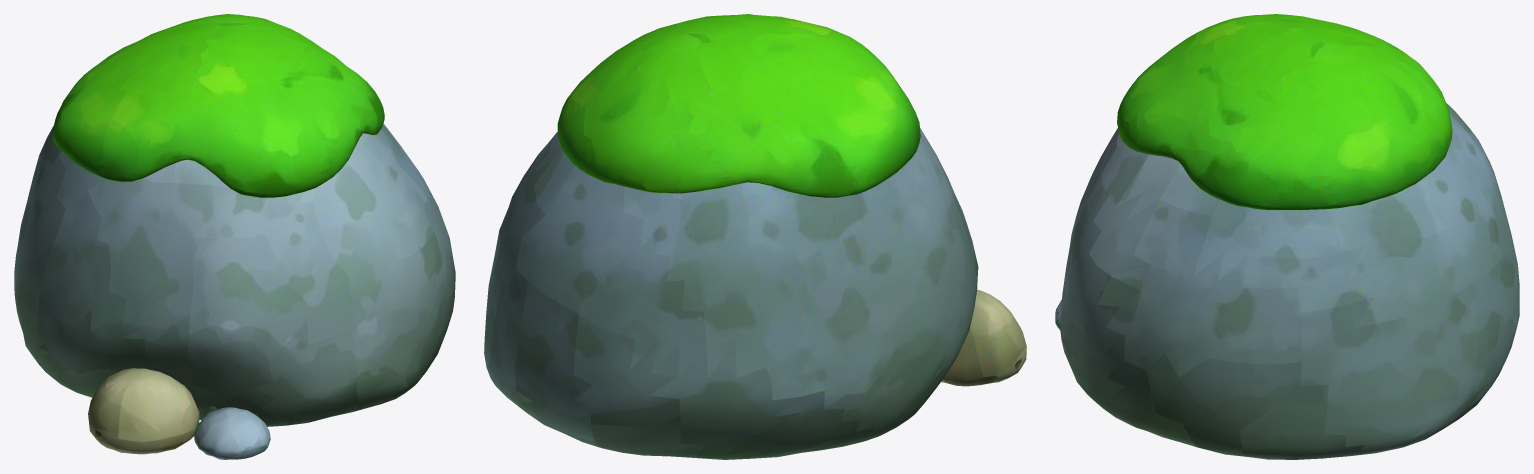
File: la_roca.glb
The picture shows the model from 3 angles, left to right: view 1: azimuth 30°, elevation 25°; view 2: azimuth 150°, elevation 25°; view 3: azimuth 270°, elevation 25°; orthographic projection. The views are drawn at different scales.
Size of the model in its own units: 1 by 0.8027 by 1.
1 material, 1 textured.
